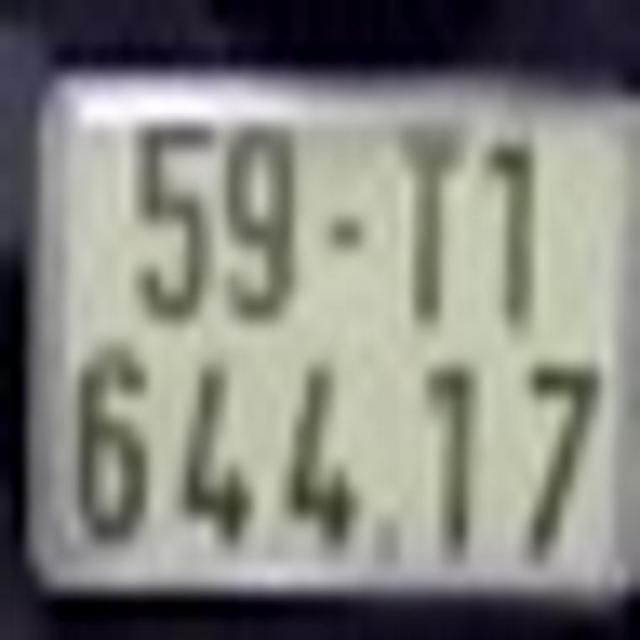1: (487, 115, 552, 335), (421, 356, 484, 567)
4: (276, 343, 362, 544), (176, 346, 253, 554)
5: (125, 108, 206, 327)
6: (65, 331, 154, 544)
7: (503, 348, 601, 582)
9: (222, 116, 305, 324)
T: (382, 111, 472, 332)
